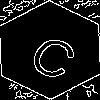C: (25, 25, 86, 83)
